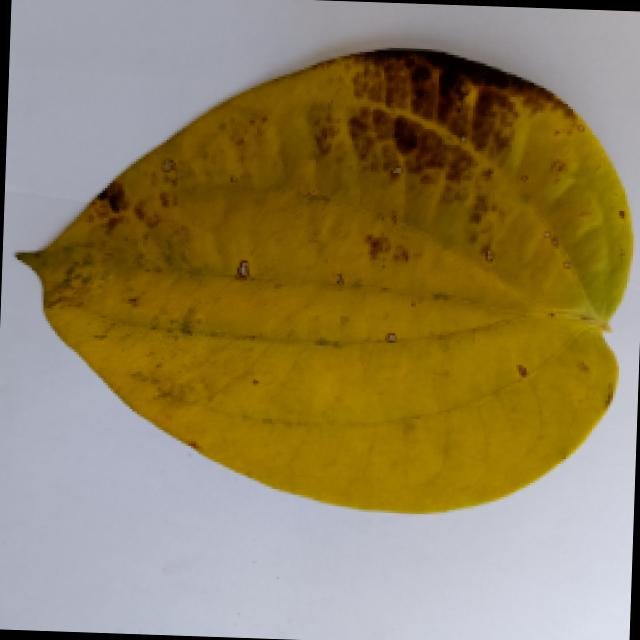slow-decline: (0, 17, 622, 498)
